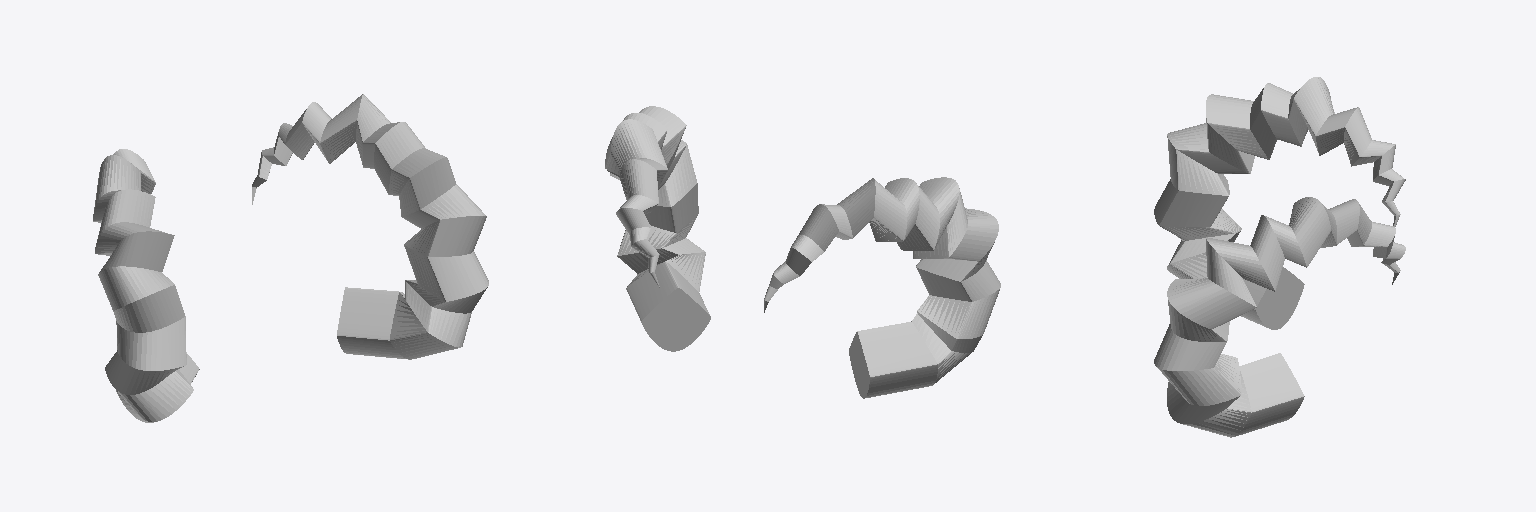
Rendered from demonhorns_curved.obj.
The picture shows the model from 3 angles: view 1: azimuth 30°, elevation 25°; view 2: azimuth 150°, elevation 25°; view 3: azimuth 270°, elevation 25°; orthographic projection.
Parts seen in each view (by area): view 1: horn1_Spiral; view 2: horn1_Spiral; view 3: horn1_Spiral.
Part boxes in pixels (bbox=[...]): horn1_Spiral: bbox=[93, 94, 488, 422]; horn1_Spiral: bbox=[605, 106, 1000, 398]; horn1_Spiral: bbox=[1154, 77, 1405, 437].
Size of the model in its own units: 1.32 by 0.8242 by 0.7923.